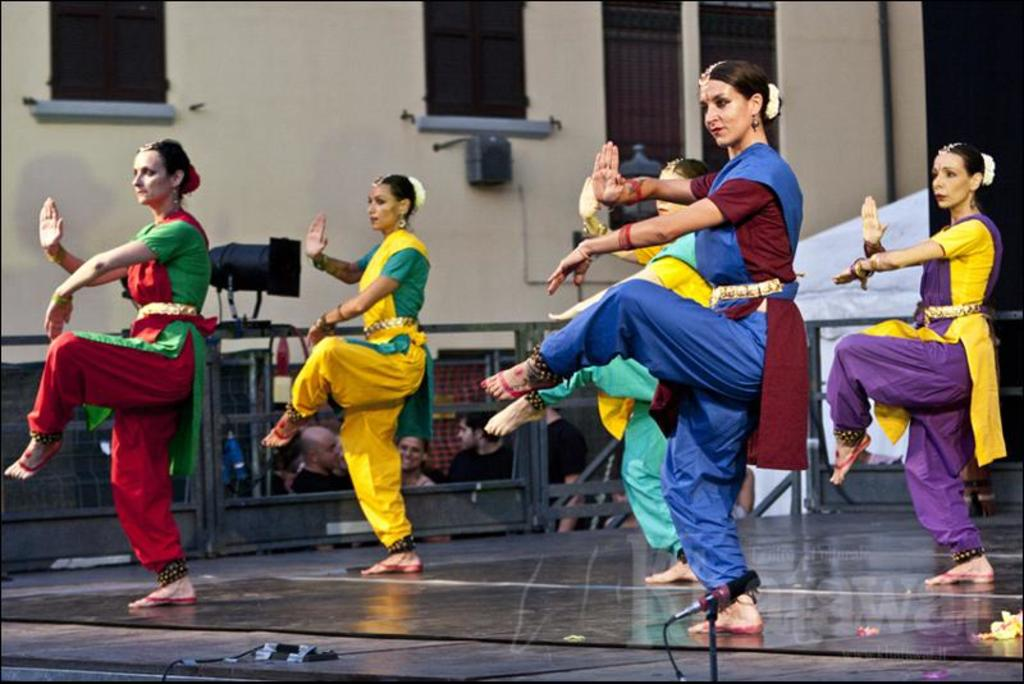person: (443, 409, 516, 483)
